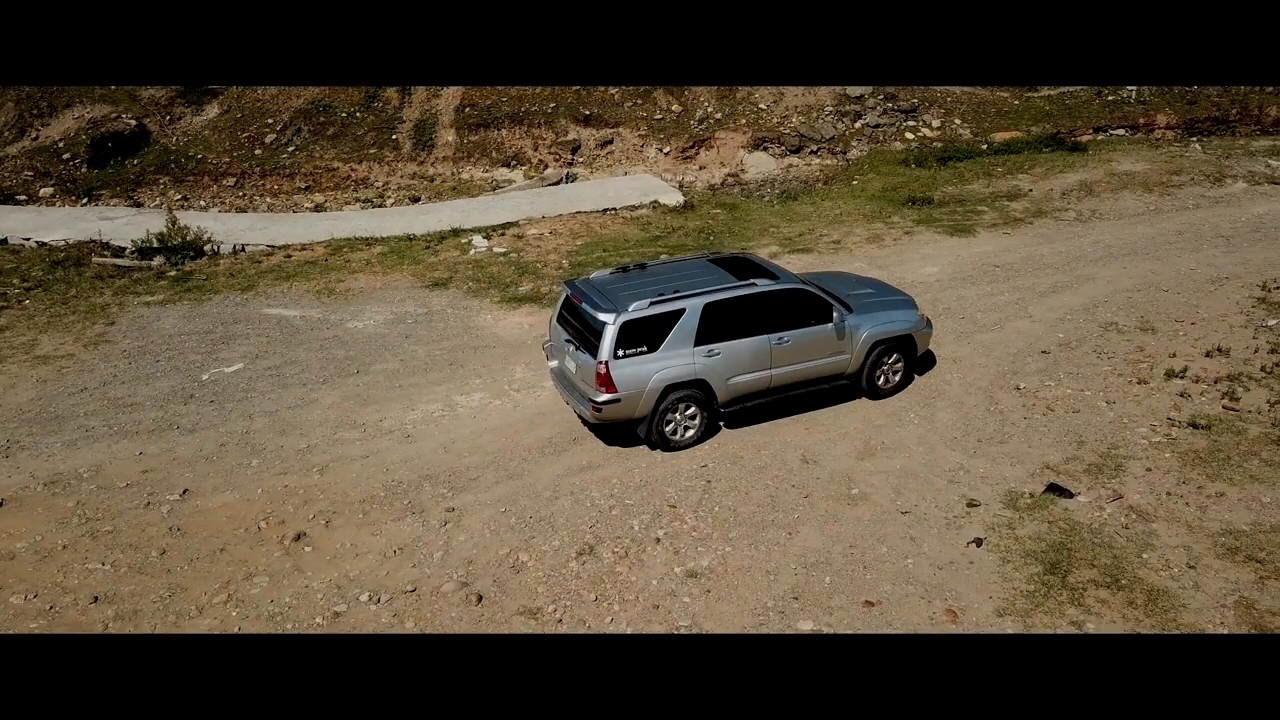araba: (543, 250, 935, 454)
